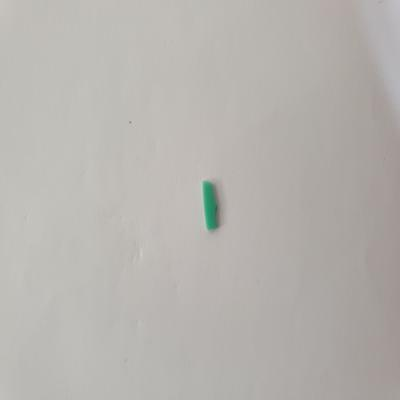plastic: (197, 176, 223, 232)
